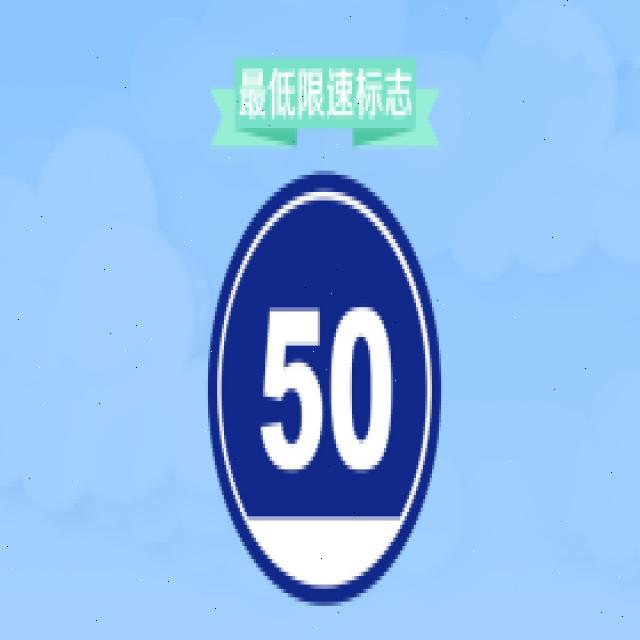speed limit 50: (209, 170, 441, 610)
